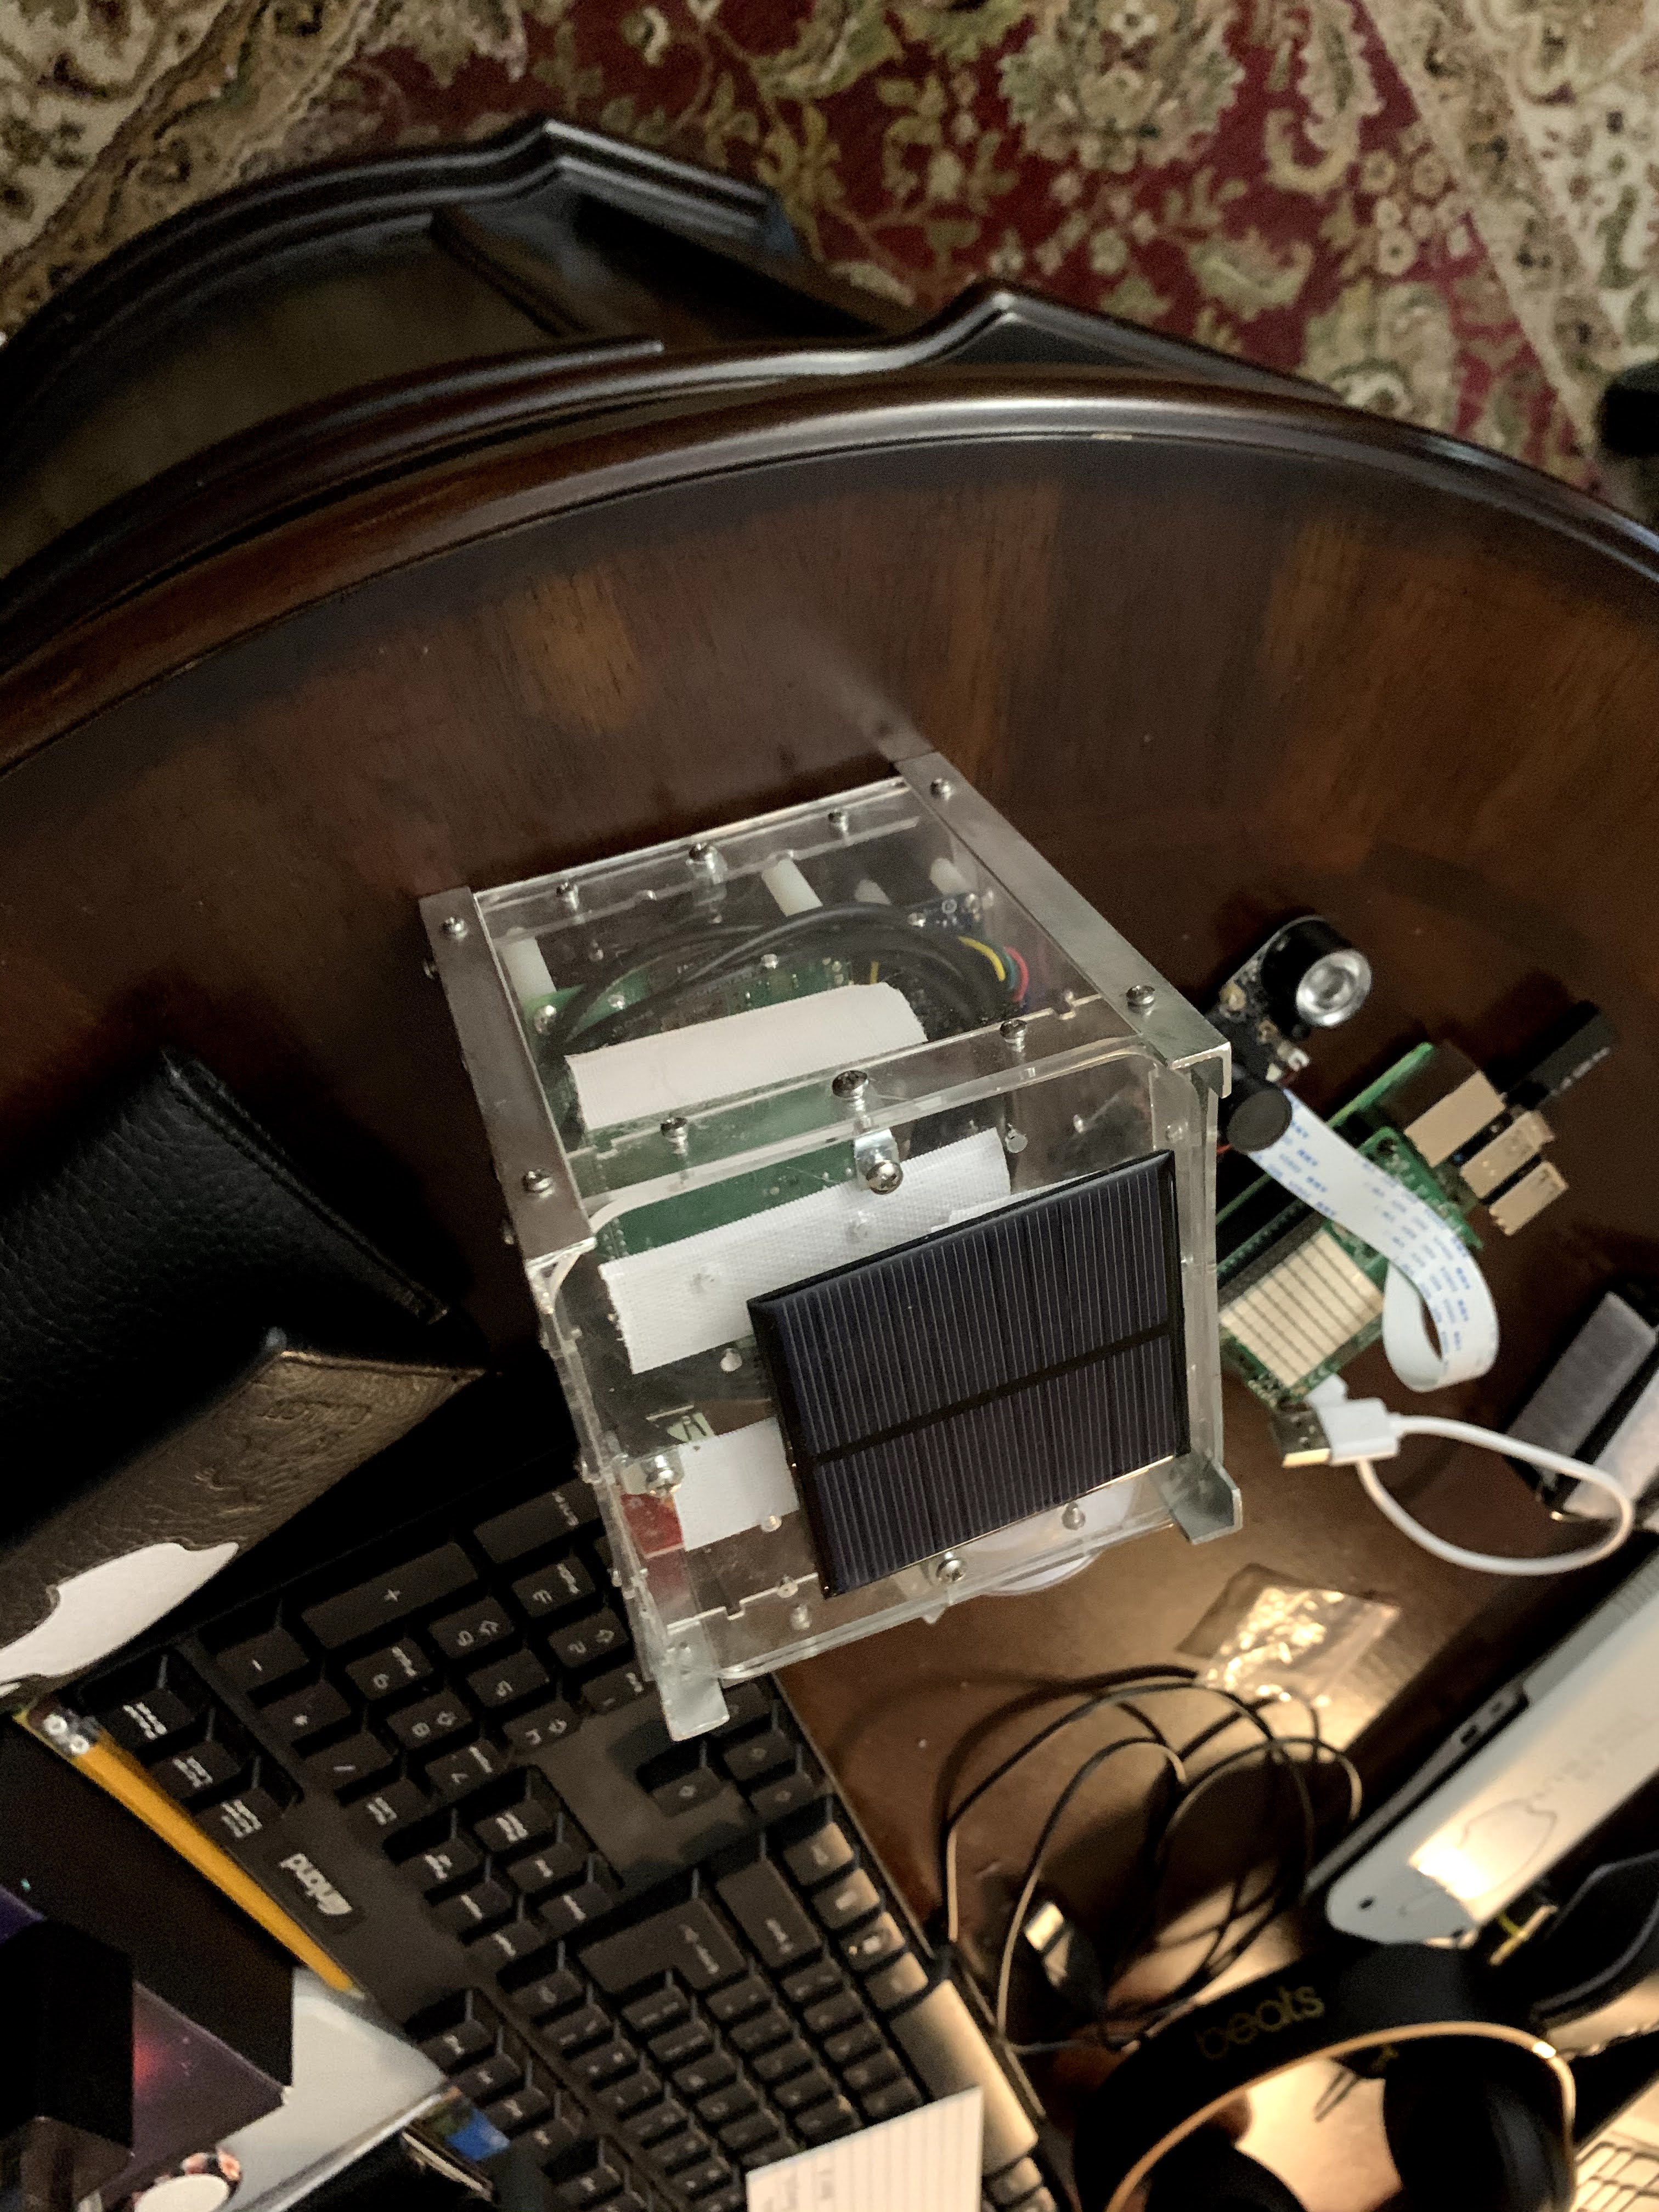Space-debris-cubesat: (385, 744, 1326, 1747)
